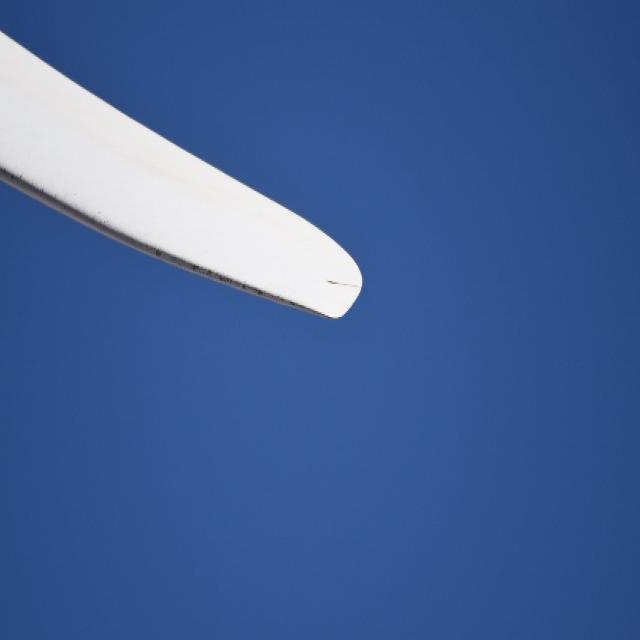Crack: (324, 278, 360, 290)
Erosion: (142, 241, 305, 323)
